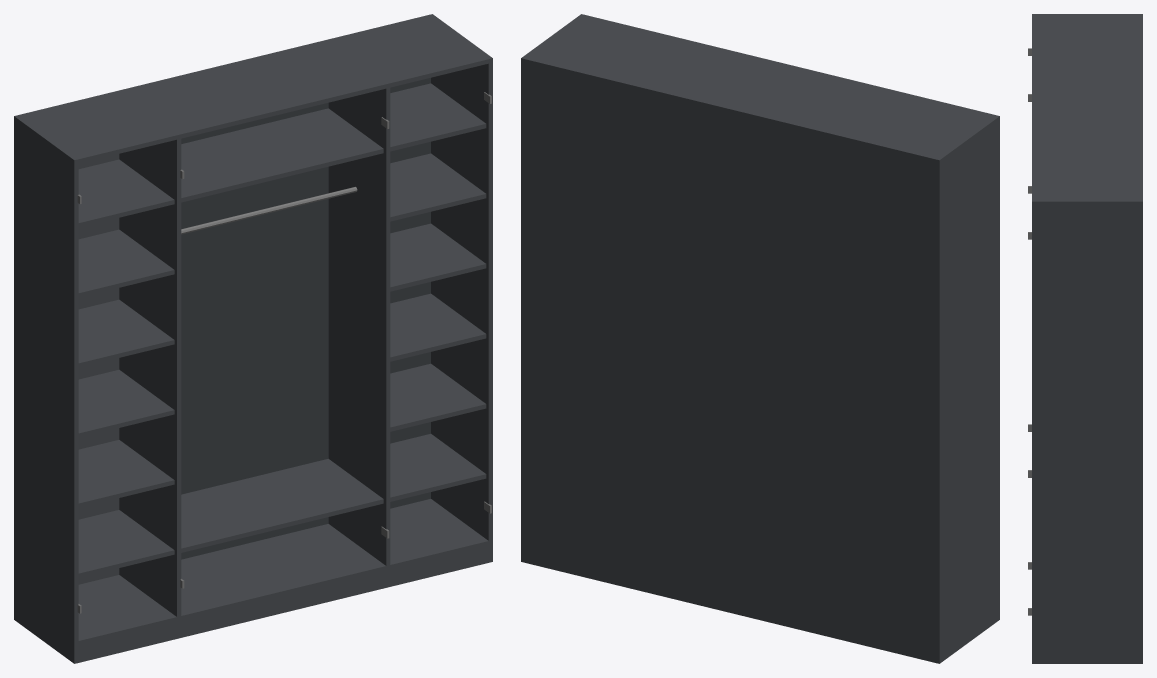
Rendered from Wardrobe6_C2.fbx.
3 renders of one model, left to right at view 1: azimuth 30°, elevation 25°; view 2: azimuth 150°, elevation 25°; view 3: azimuth 270°, elevation 25°, orthographic. The views are drawn at different scales.
Parts seen in each view (by area): view 1: Wardrobe6_C2; view 2: Wardrobe6_C2; view 3: Wardrobe6_C2.
Boxes of the visible parts, x1,y1,x2,y2 form: Wardrobe6_C2: (14,14,492,663); Wardrobe6_C2: (521,14,999,663); Wardrobe6_C2: (1028,14,1142,663).
Size of the model in its own units: 200 by 230 by 51.79.
